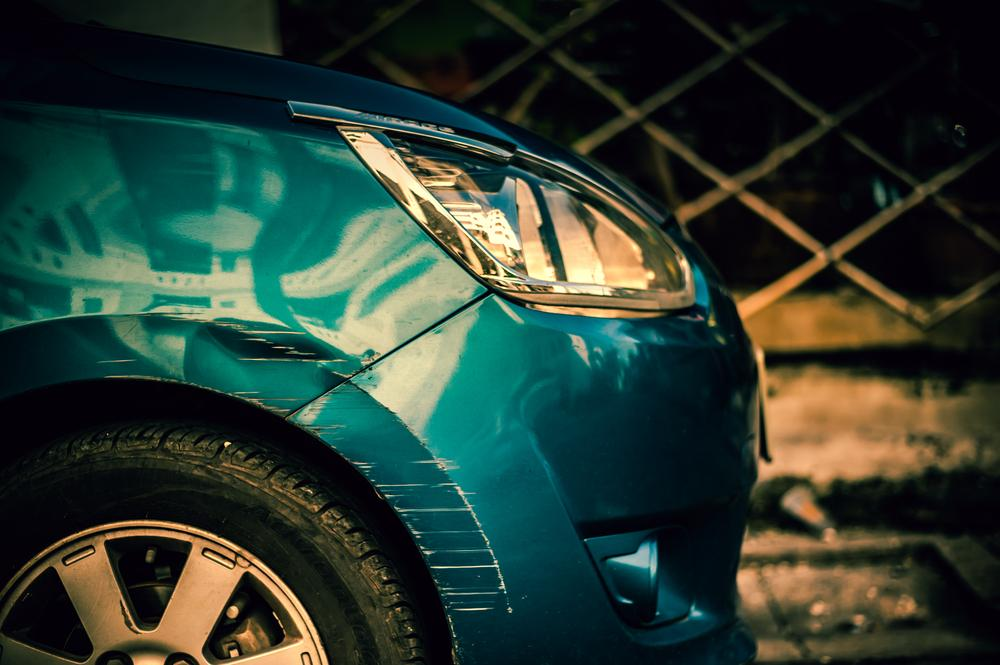dent: (181, 320, 343, 411)
scratch: (281, 366, 521, 652)
